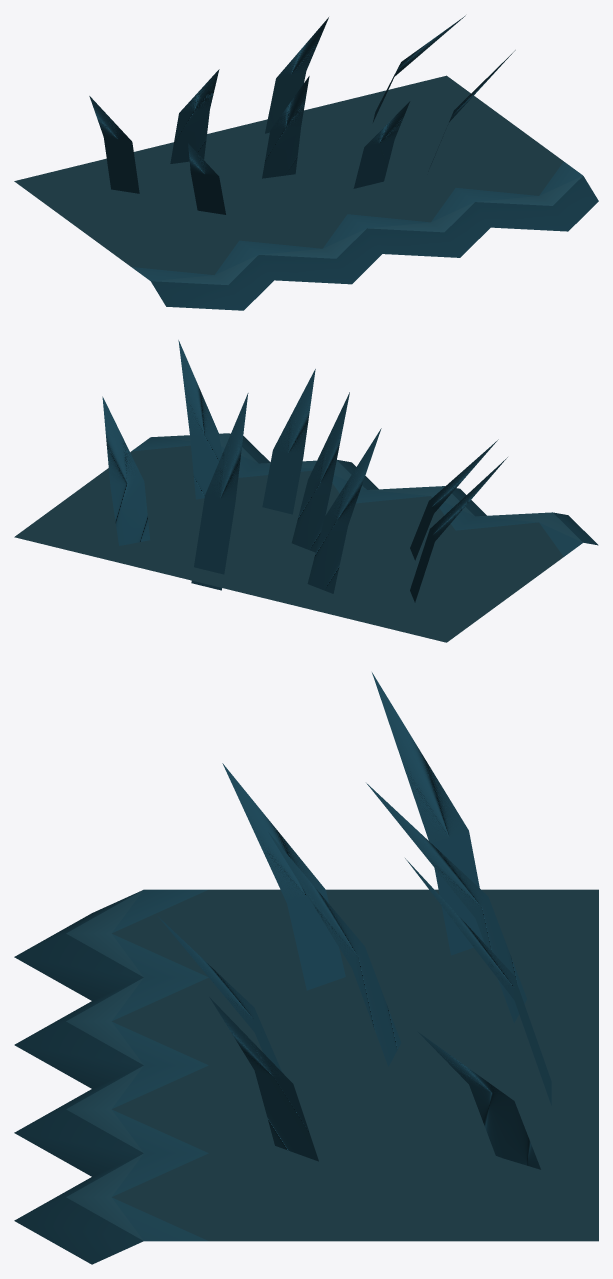
3 views of the same model, one above another, from view 1: azimuth 30°, elevation 25°; view 2: azimuth 150°, elevation 25°; view 3: azimuth 270°, elevation 25° (orthographic). The views are drawn at different scales.
Visible parts, largest first — view 1: 32144; view 2: 32144; view 3: 32144.
Boxes of the visible parts, x1=… form: 32144: x1=14, y1=15, x2=598, y2=310; 32144: x1=14, y1=340, x2=598, y2=642; 32144: x1=14, y1=672, x2=598, y2=1264.
Bounding box in the file's own units: 1.28 × 0.45 × 0.9.
